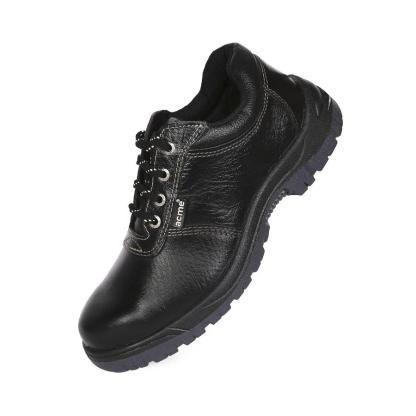bota: (72, 38, 347, 378)
